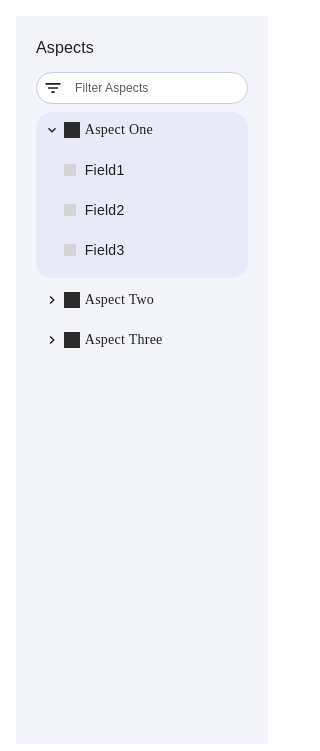
it: SideNav › expand/collapse functionality › should collapse annotation item when clicked again
Expected: the text "Field1" is shown, [85,162,124,178]
# Click to collapse
Click the button "Aspect One".
click(98, 130)  # box [44,122,153,138]
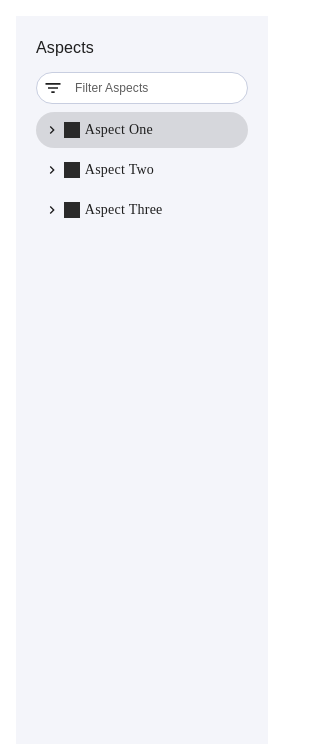
Expected: the button "Field1" is gone
